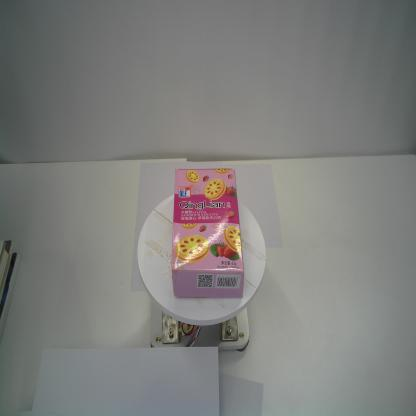Dessert: (168, 165, 248, 300)
